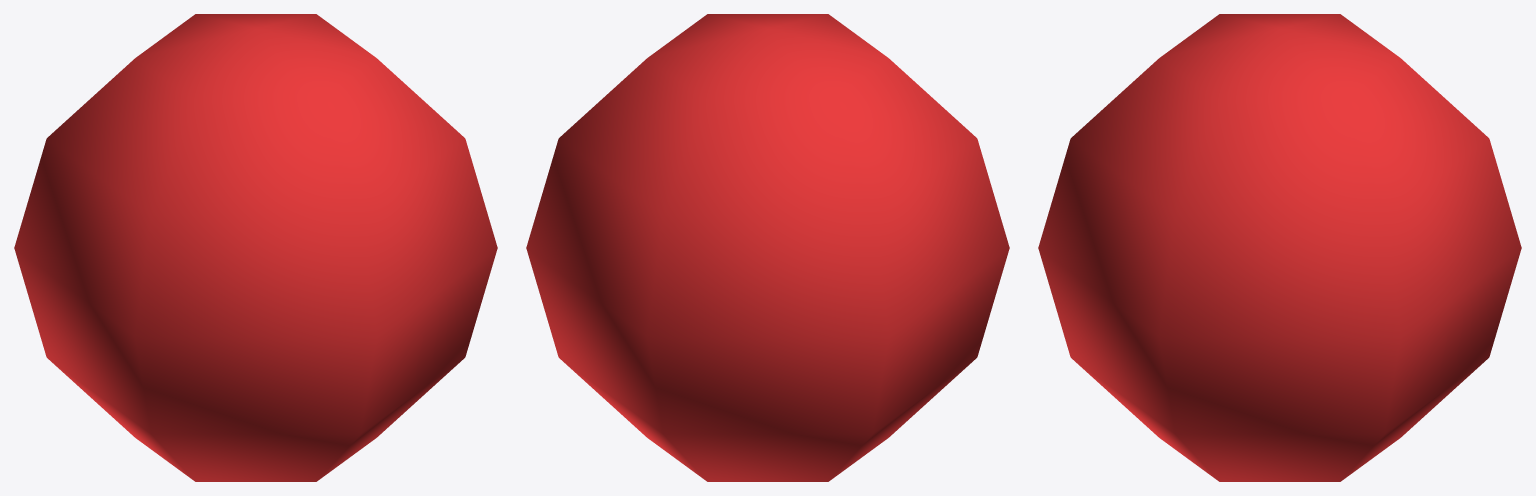
The model's file is bbbb.fbx.
3 views of the same model, side by side, from view 1: azimuth 30°, elevation 25°; view 2: azimuth 150°, elevation 25°; view 3: azimuth 270°, elevation 25° (orthographic).
Parts seen in each view (by area): view 1: bomb; view 2: bomb; view 3: bomb.
Boxes of the visible parts, x1,y1,x2,y2 form: bomb: [14, 14, 497, 481]; bomb: [526, 14, 1009, 481]; bomb: [1038, 14, 1521, 481].
Size of the model in its own units: 173 by 200 by 200.
